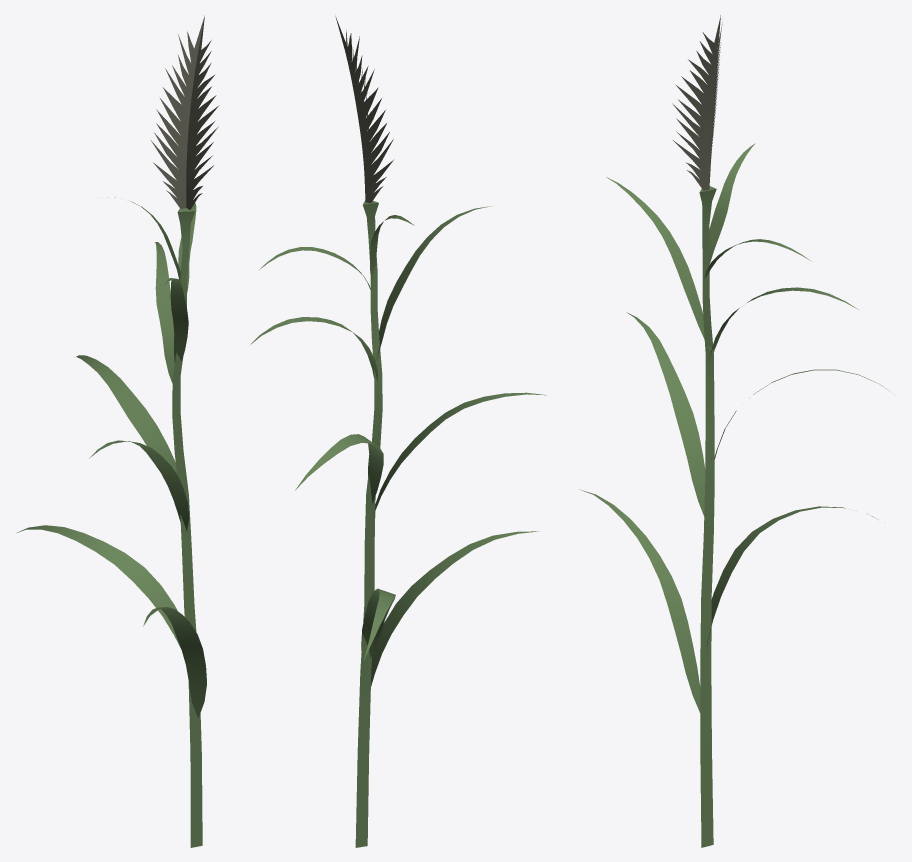
Rendered from plant_pampa_A.fbx.
3 renders of one model, left to right at view 1: azimuth 30°, elevation 25°; view 2: azimuth 150°, elevation 25°; view 3: azimuth 270°, elevation 25°, orthographic. The views are drawn at different scales.
Parts seen in each view (by area): view 1: plant_pampa_A_leaf_flower, plant_pampa_A_twig, plant_pampa_A_leaf_G, plant_pampa_A_leaf_E, plant_pampa_A_leaf_H, plant_pampa_A_leaf_D, plant_pampa_A_leaf_F, plant_pampa_A_leaf_B; view 2: plant_pampa_A_twig, plant_pampa_A_leaf_flower, plant_pampa_A_leaf_H, plant_pampa_A_leaf_E, plant_pampa_A_leaf_G, plant_pampa_A_leaf_F, plant_pampa_A_leaf_B, plant_pampa_A_leaf_D; view 3: plant_pampa_A_twig, plant_pampa_A_leaf_flower, plant_pampa_A_leaf_F, plant_pampa_A_leaf_H, plant_pampa_A_leaf_B, plant_pampa_A_leaf_G, plant_pampa_A_leaf_A.
Boxes of the visible parts, x1,y1,x2,y2 form: plant_pampa_A_leaf_flower: (151,15,219,209); plant_pampa_A_twig: (172,208,202,847); plant_pampa_A_leaf_G: (17,525,181,649); plant_pampa_A_leaf_E: (76,355,176,473); plant_pampa_A_leaf_H: (143,607,206,717); plant_pampa_A_leaf_D: (154,242,174,383); plant_pampa_A_leaf_F: (89,440,189,531); plant_pampa_A_leaf_B: (163,278,188,363); plant_pampa_A_twig: (355,200,382,847); plant_pampa_A_leaf_flower: (335,16,393,203); plant_pampa_A_leaf_H: (371,531,538,686); plant_pampa_A_leaf_E: (295,434,383,503); plant_pampa_A_leaf_G: (361,588,395,659); plant_pampa_A_leaf_F: (373,392,546,517); plant_pampa_A_leaf_B: (376,206,491,359); plant_pampa_A_leaf_D: (250,317,377,381); plant_pampa_A_twig: (699,186,716,847); plant_pampa_A_leaf_flower: (672,15,722,190); plant_pampa_A_leaf_F: (626,312,705,516); plant_pampa_A_leaf_H: (579,489,700,712); plant_pampa_A_leaf_B: (606,177,711,350); plant_pampa_A_leaf_G: (706,506,878,648); plant_pampa_A_leaf_A: (709,143,755,263).
Size of the model in its own units: 52.53 by 212 by 73.36.
